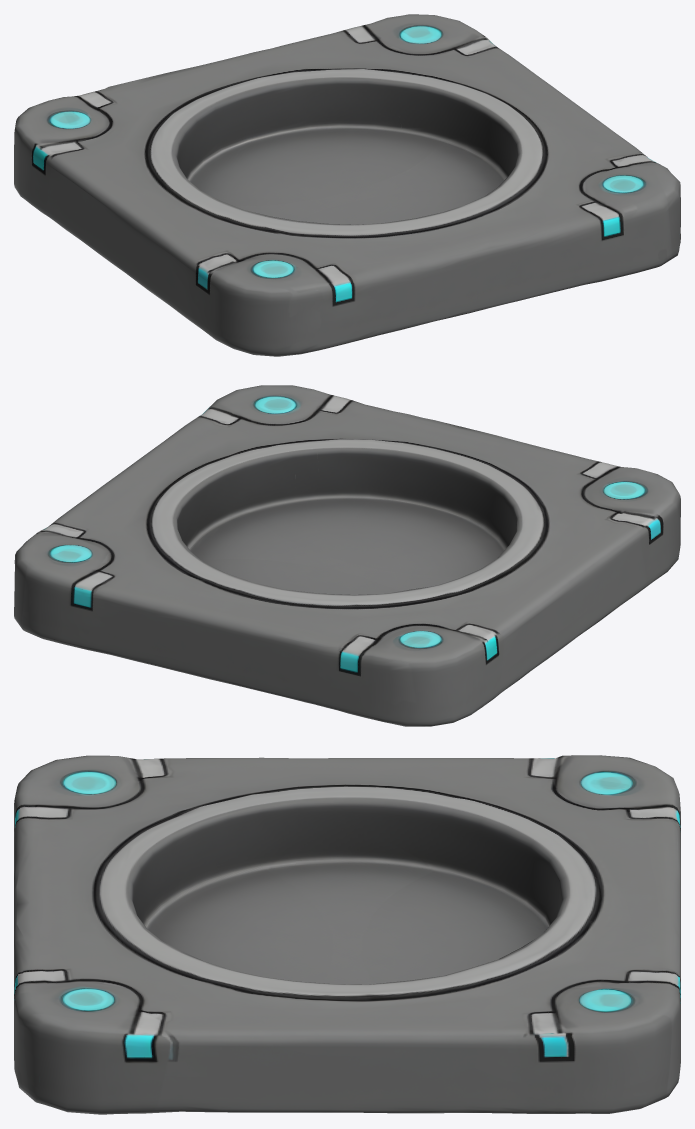
Rendered from Push button-A_texture.fbx.
3 renders of one model, top to bottom at view 1: azimuth 30°, elevation 25°; view 2: azimuth 150°, elevation 25°; view 3: azimuth 270°, elevation 25°, orthographic. The views are drawn at different scales.
Visible parts, largest first — view 1: Mesh0; view 2: Mesh0; view 3: Mesh0.
Boxes of the visible parts, bbox=[...] form: Mesh0: bbox=[14, 14, 680, 356]; Mesh0: bbox=[14, 385, 680, 726]; Mesh0: bbox=[14, 755, 680, 1114].
Bounding box in the file's own units: 192 × 27.44 × 192.
Materials: 1 (1 with a texture image).
